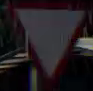Give way: (8, 2, 92, 81)
